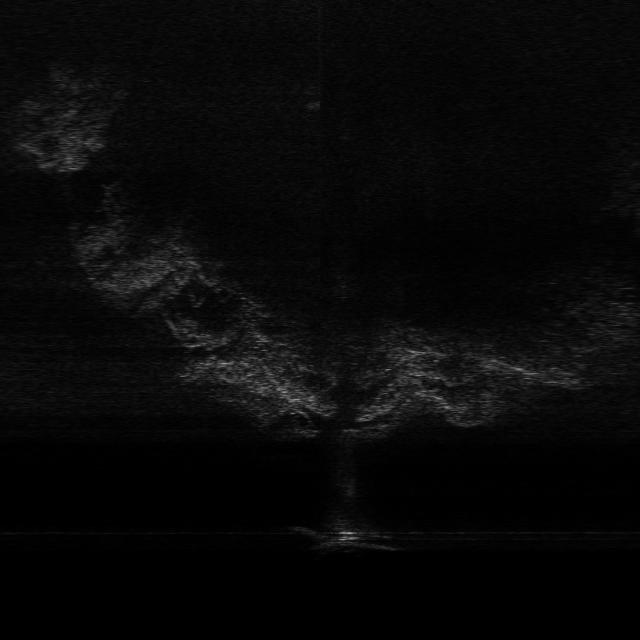plane: (290, 522, 410, 553)
